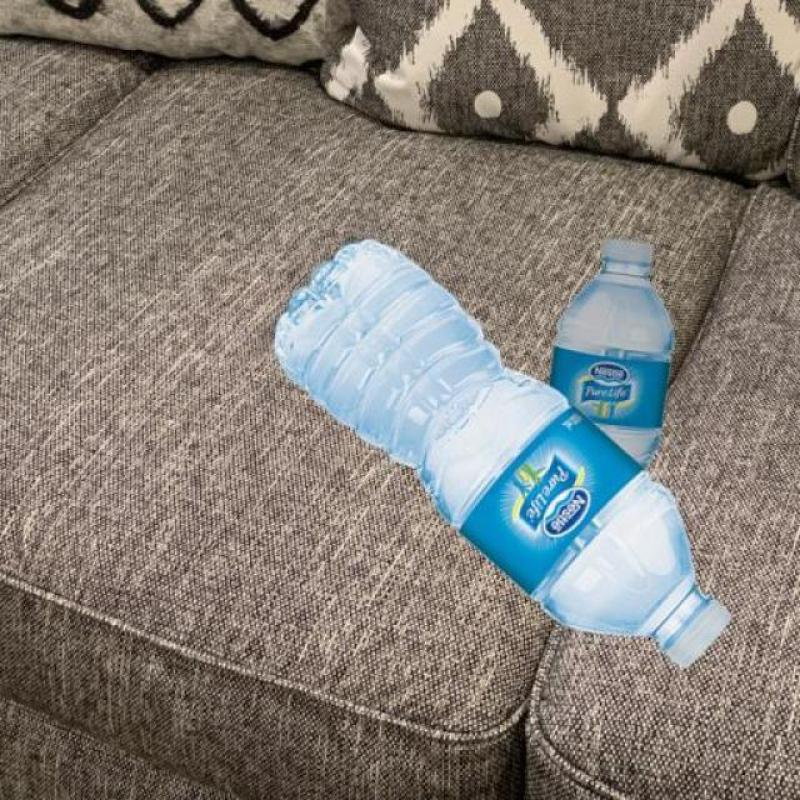botella: (275, 244, 735, 678), (548, 222, 671, 498)
